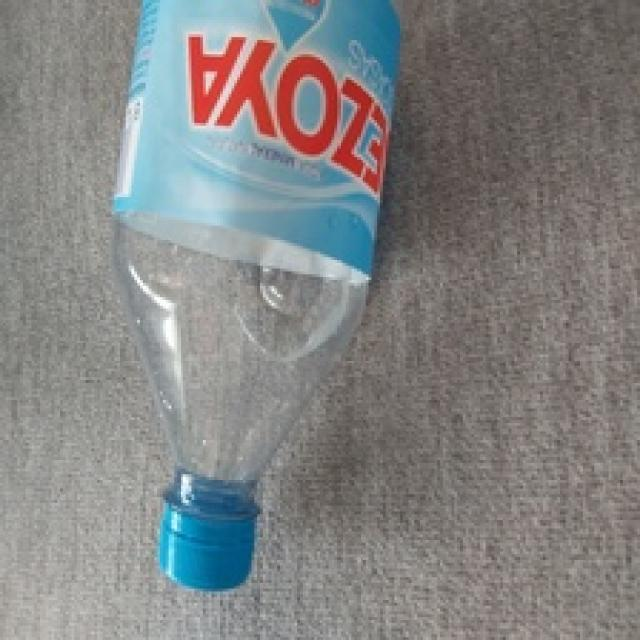Plastic: (114, 2, 403, 586)
